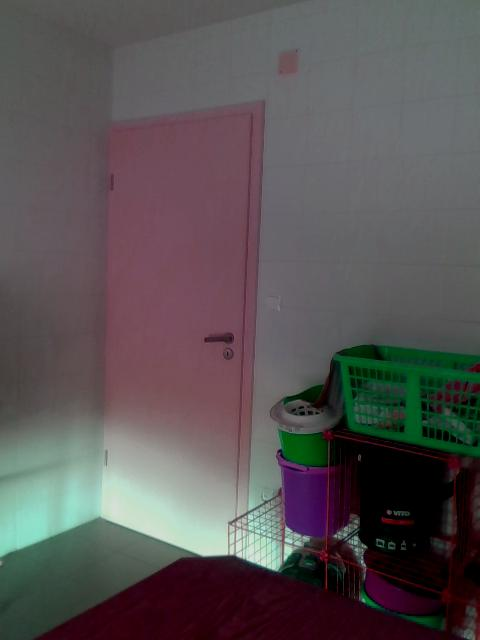closed_door: (97, 100, 265, 556)
